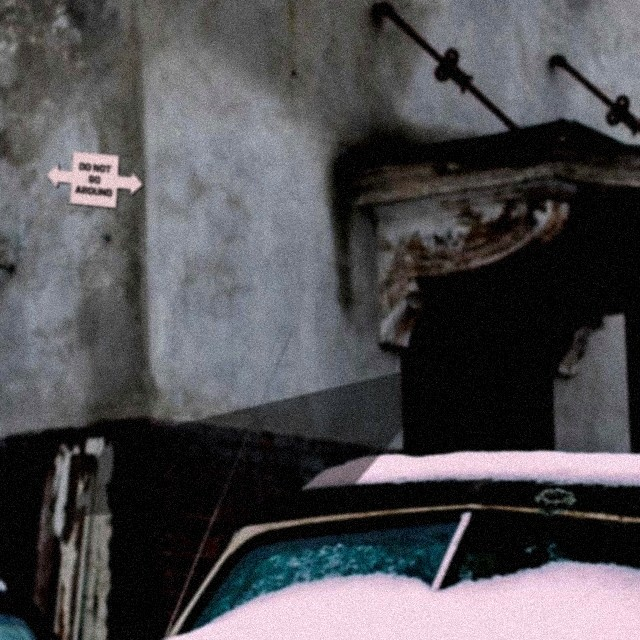DO_NOT_GO_AROUND: (45, 150, 144, 209)
